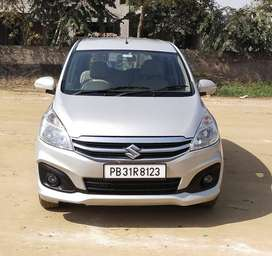PB31R8123: (104, 164, 165, 178)
